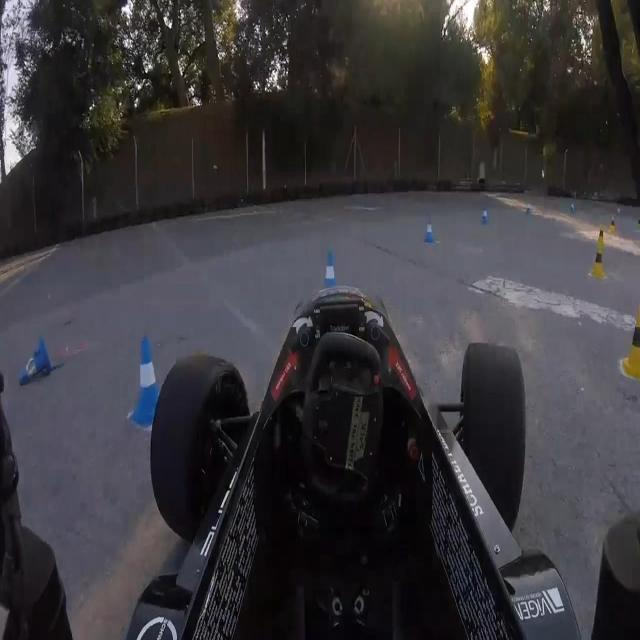blue_cone: (128, 333, 160, 431), (13, 336, 54, 393), (318, 250, 340, 291), (423, 216, 439, 249), (482, 203, 491, 226), (525, 199, 532, 215), (570, 201, 577, 215)
yellow_cone: (621, 301, 640, 383), (594, 243, 606, 280), (608, 215, 618, 238), (598, 225, 604, 245), (637, 214, 640, 230)
